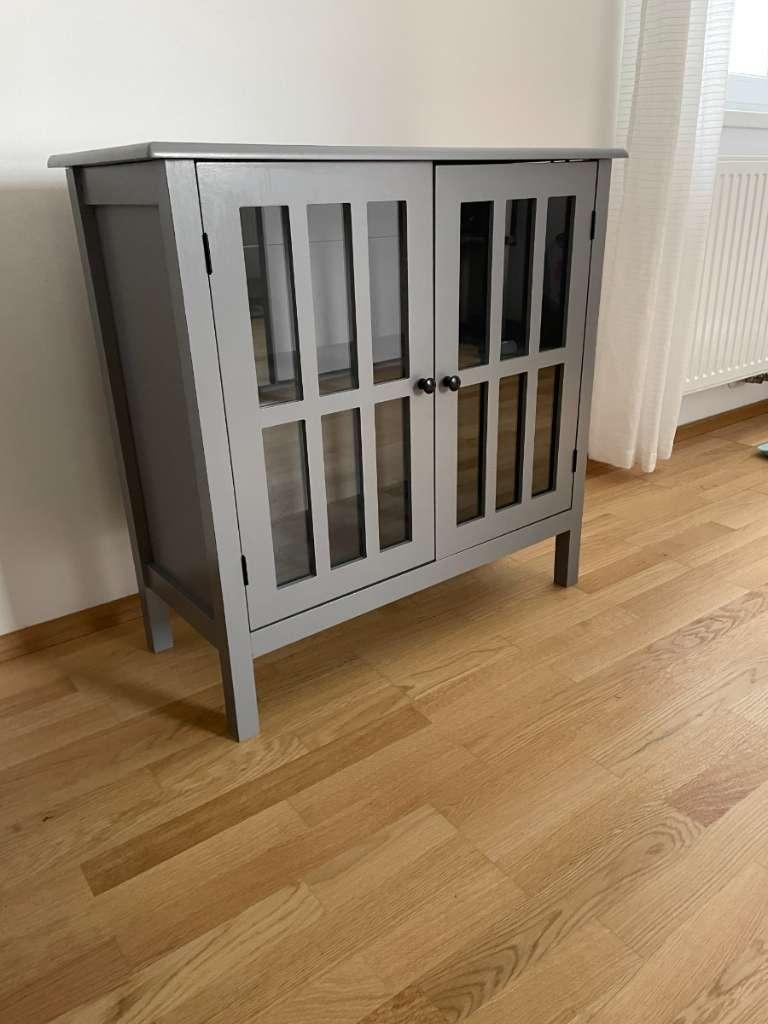cabinet_door: (215, 168, 437, 587), (439, 168, 585, 520)
handle: (443, 370, 464, 400), (417, 375, 435, 403)
